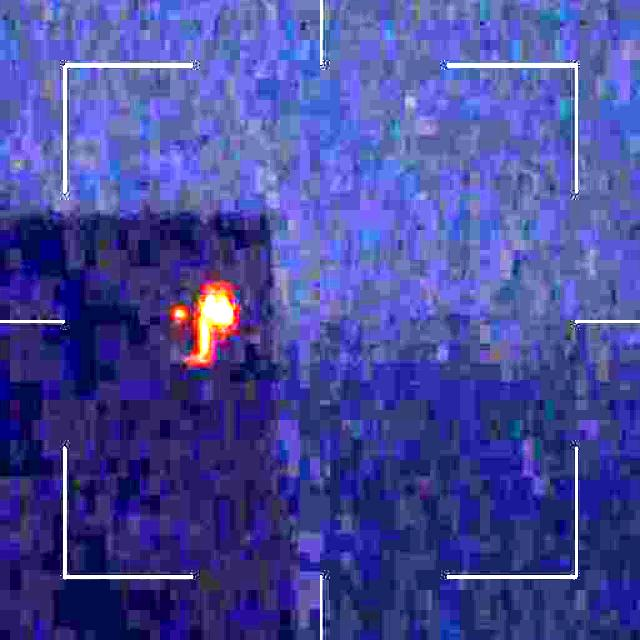bird: (165, 280, 238, 381)
